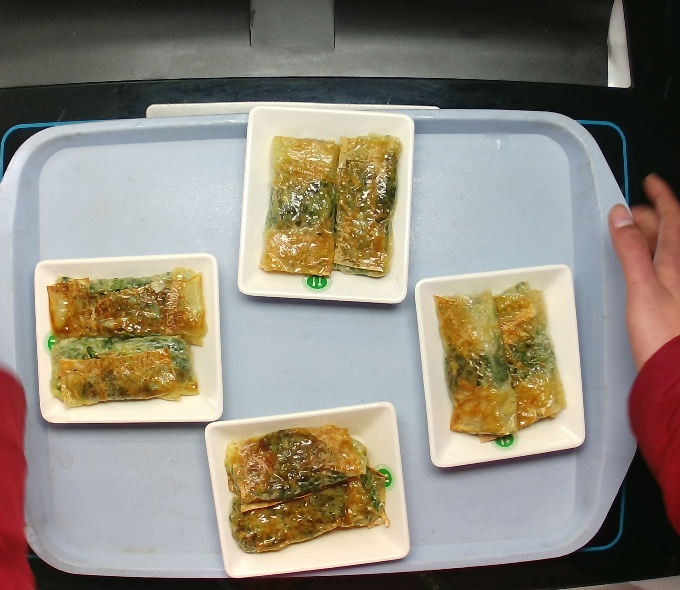wcq-CaiBao: (409, 266, 582, 460), (27, 255, 212, 420), (244, 113, 410, 292), (216, 410, 406, 554)
